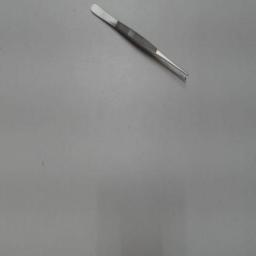Gillies Toothed Dissector: (88, 2, 196, 88)
